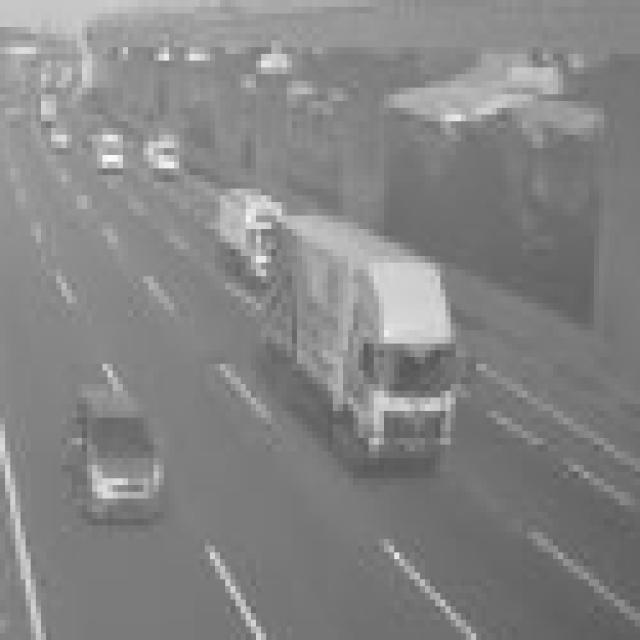Truck: (255, 202, 489, 478)
